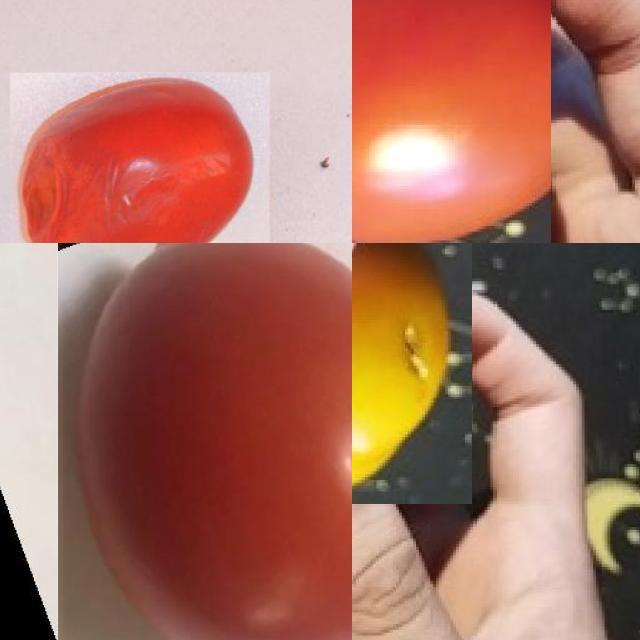Fresh Tomato: (56, 243, 352, 640), (352, 0, 551, 243)
Rotten Tomato: (10, 72, 270, 243), (352, 243, 472, 503)
